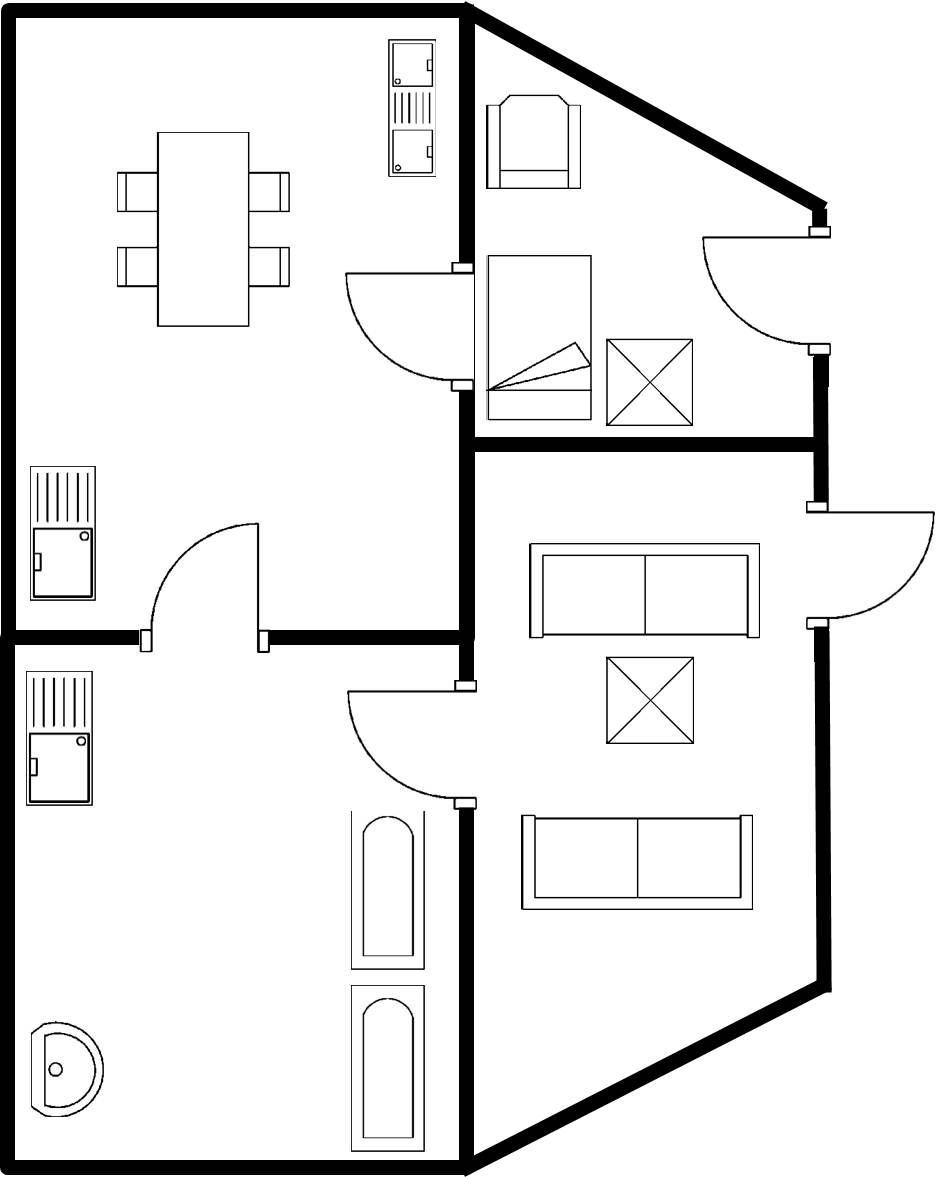armchair: (481, 84, 593, 200)
bed: (481, 247, 600, 426)
coffee_table: (594, 651, 703, 755), (600, 329, 700, 434)
dining_table: (107, 124, 296, 340)
large_sofa: (511, 803, 768, 920), (521, 532, 768, 646)
sink: (17, 661, 100, 815), (22, 459, 104, 609)
small_sink: (24, 1015, 114, 1126)
tub: (342, 974, 437, 1158), (341, 800, 439, 977)
twin_sink: (378, 31, 444, 184)
